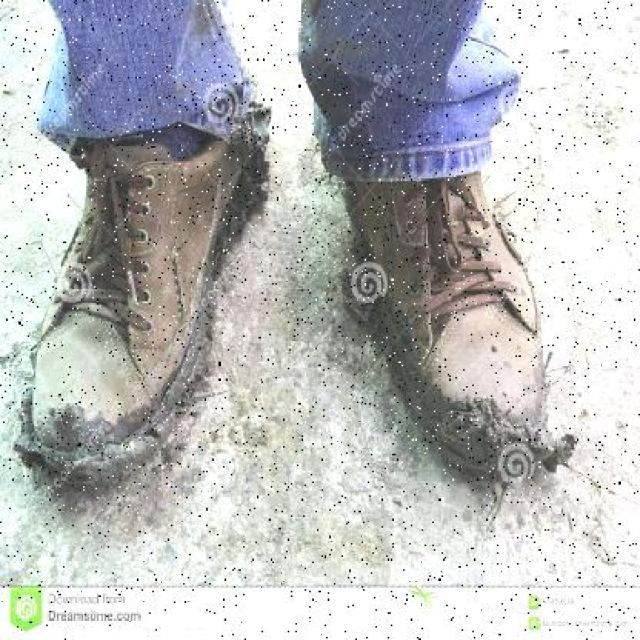shoes: (33, 138, 250, 470), (332, 180, 554, 475)
